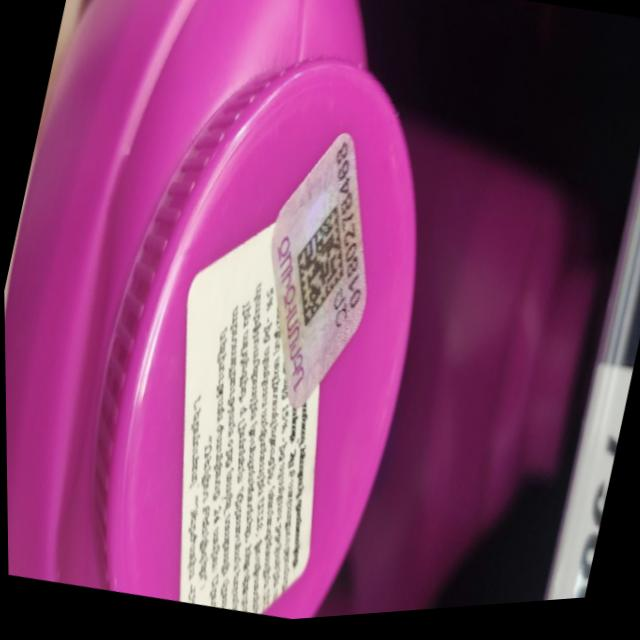datamatrix: (280, 202, 359, 341)
